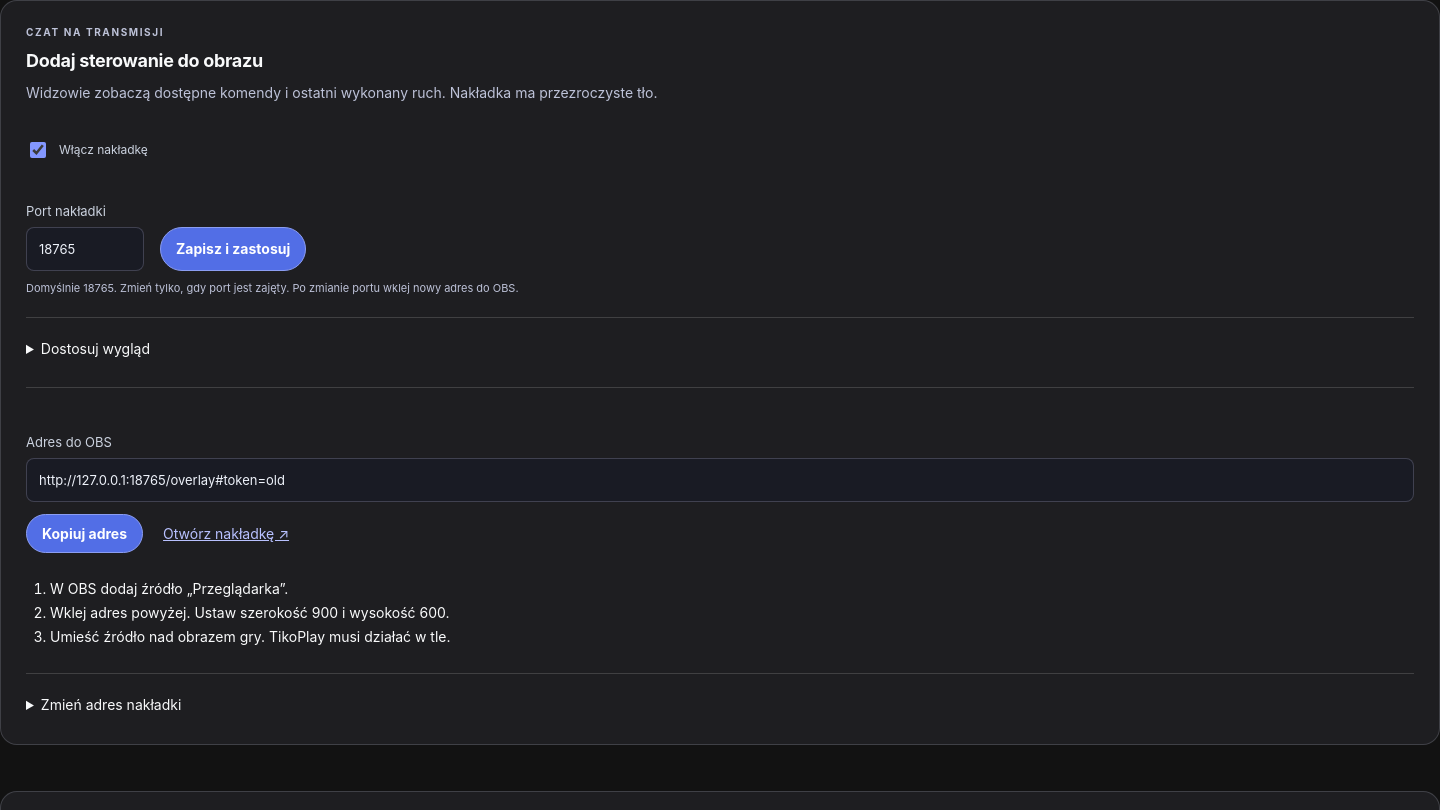
preserves the active URL when a new port cannot be applied
Replace the text in the number field labelled "Port nakładki" with "18766" at (85, 249), box [26,227,144,271]
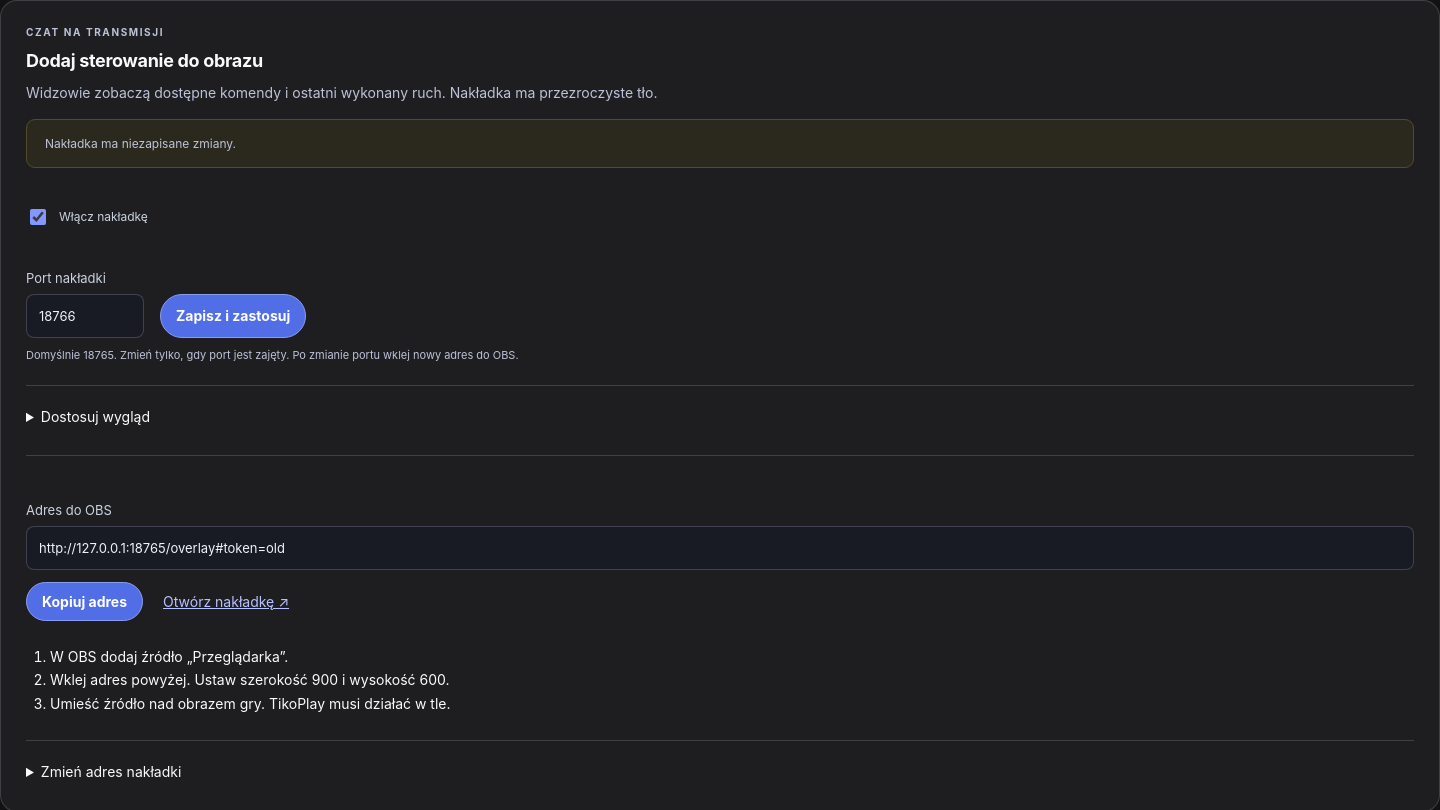
Click the button "Zapisz i zastosuj" at (233, 316), box [160,294,306,338]
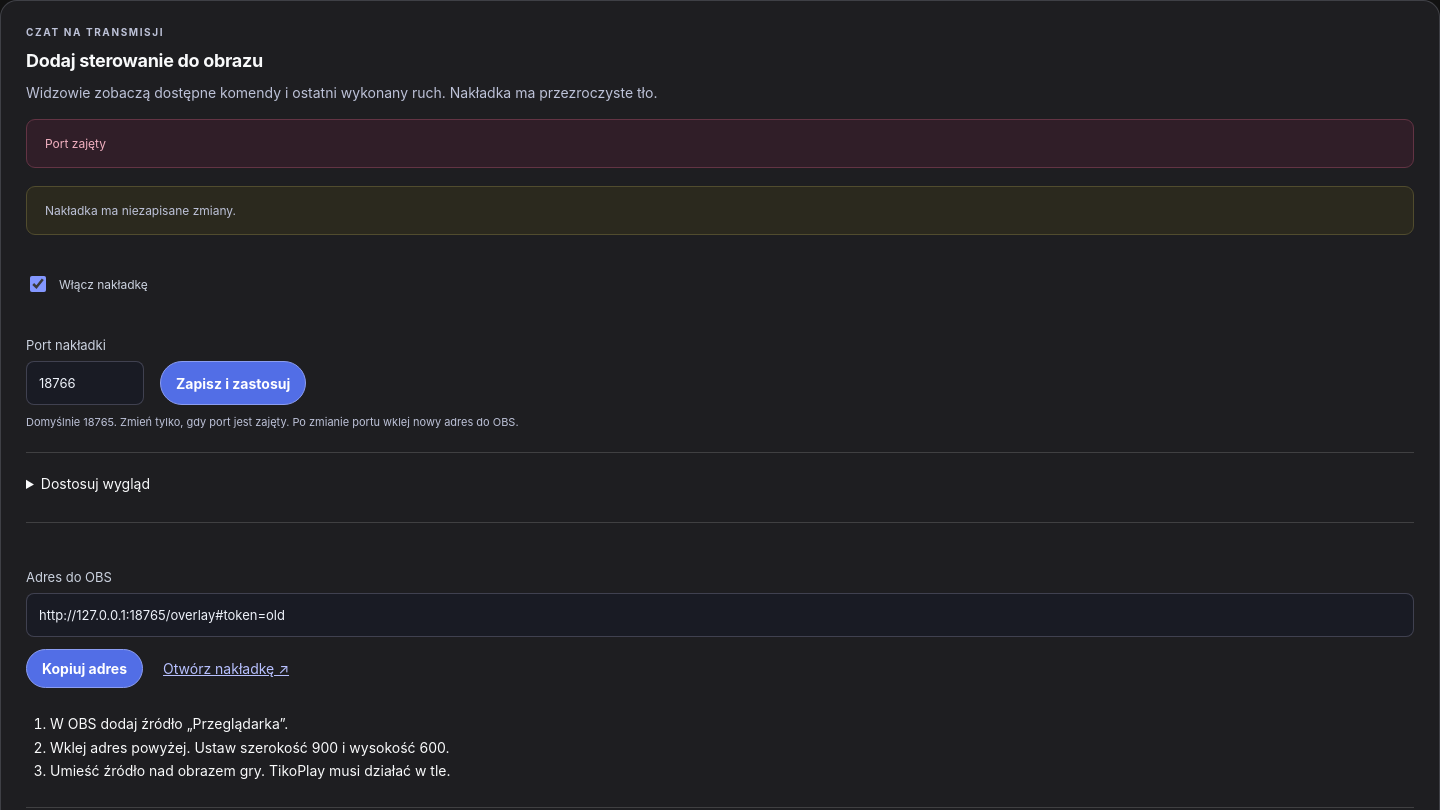
expect the field labelled "Adres do OBS" holds "http://127.0.0.1:18765/overlay#token=old": met, box [26,593,1414,637]
expect the message "Port zajęty" is shown: met, box [26,119,1414,168]
